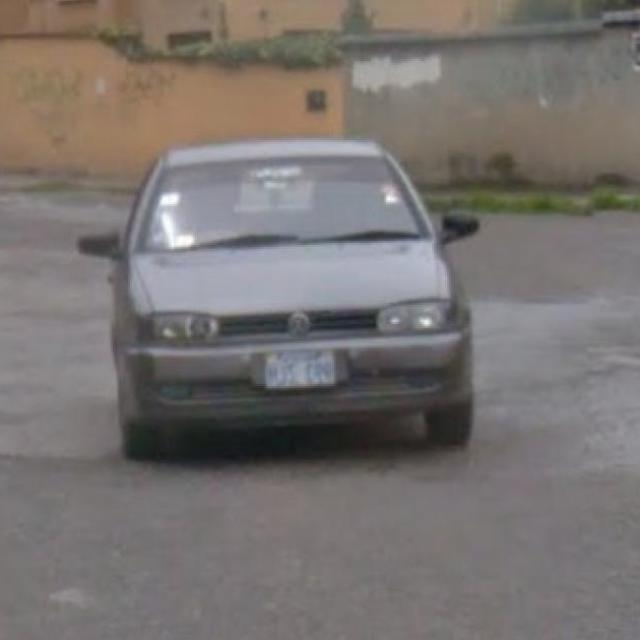car: (100, 132, 482, 478)
